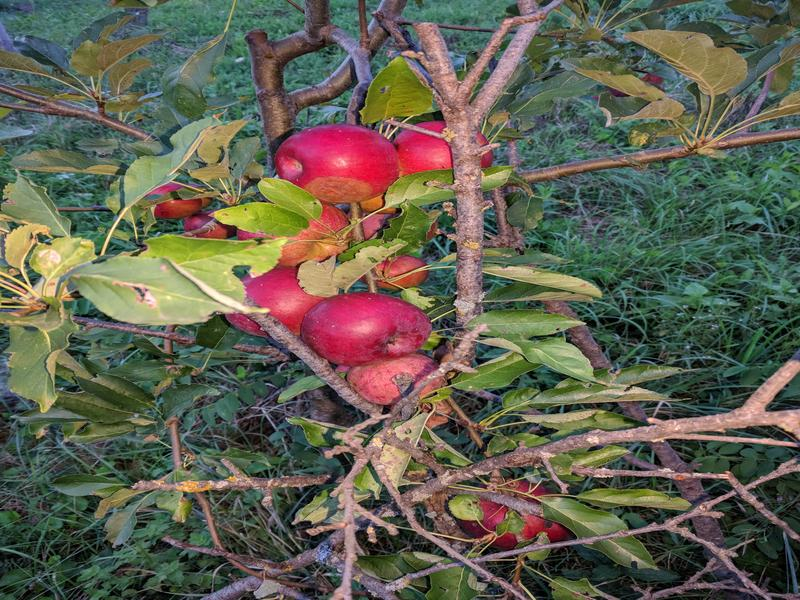apple: (299, 289, 446, 369), (275, 119, 405, 204)
